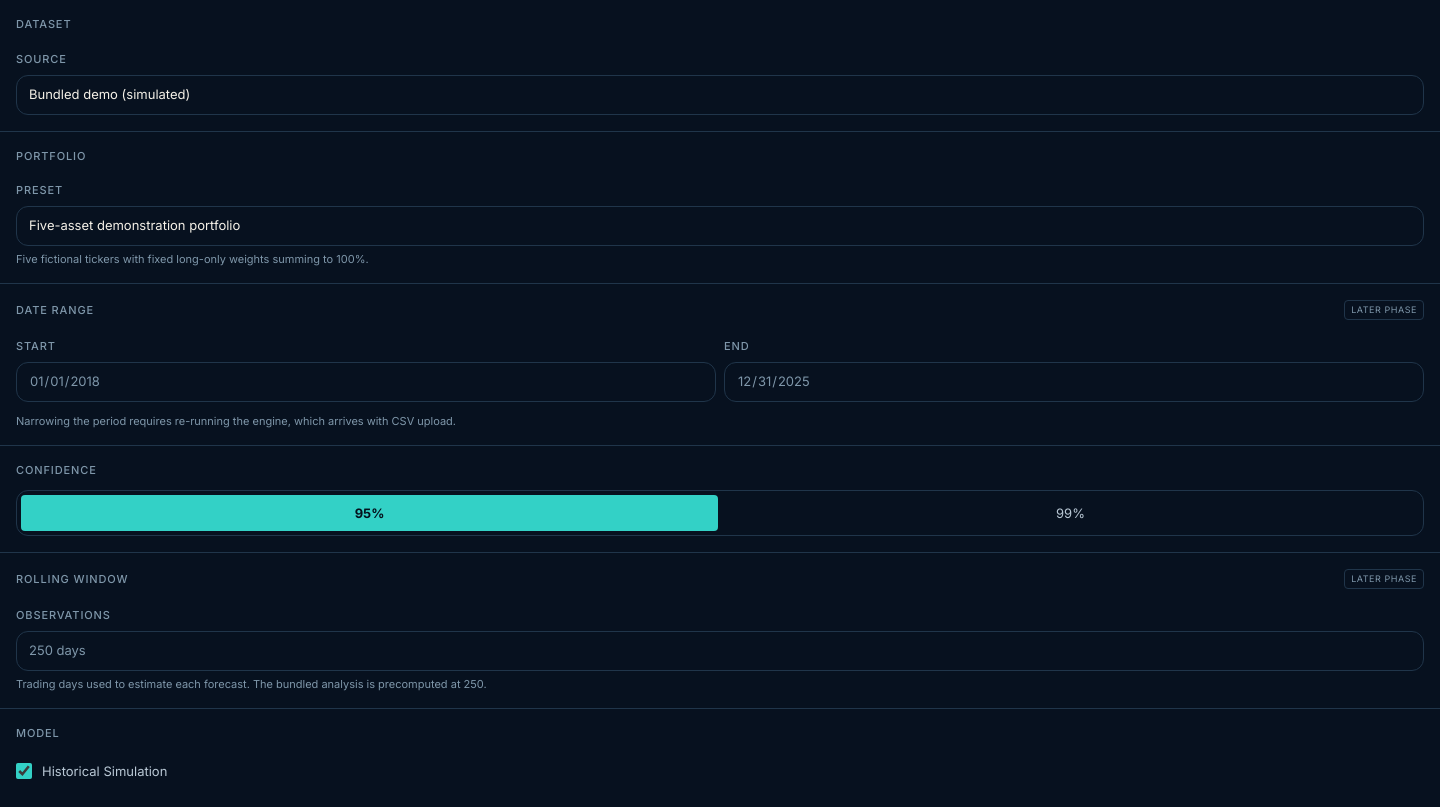
Scenario: Model and confidence controls drive the audit table › explains an empty selection rather than showing a bare table
Click the checkbox labelled "Historical Simulation".
click(24, 771)  # box [16, 763, 32, 779]
(page scrolled)
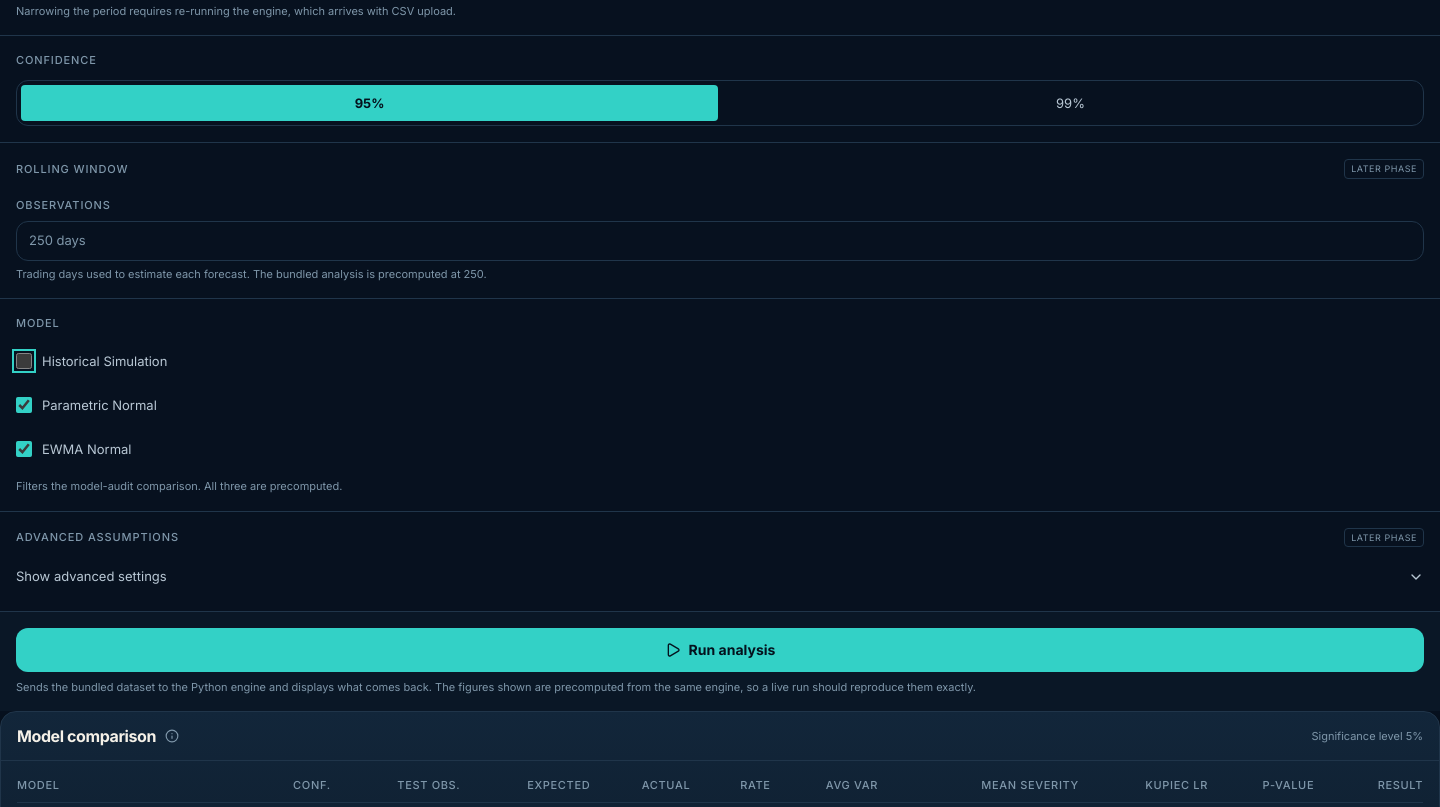
Click the checkbox labelled "Parametric Normal".
click(24, 405)  # box [16, 397, 32, 413]
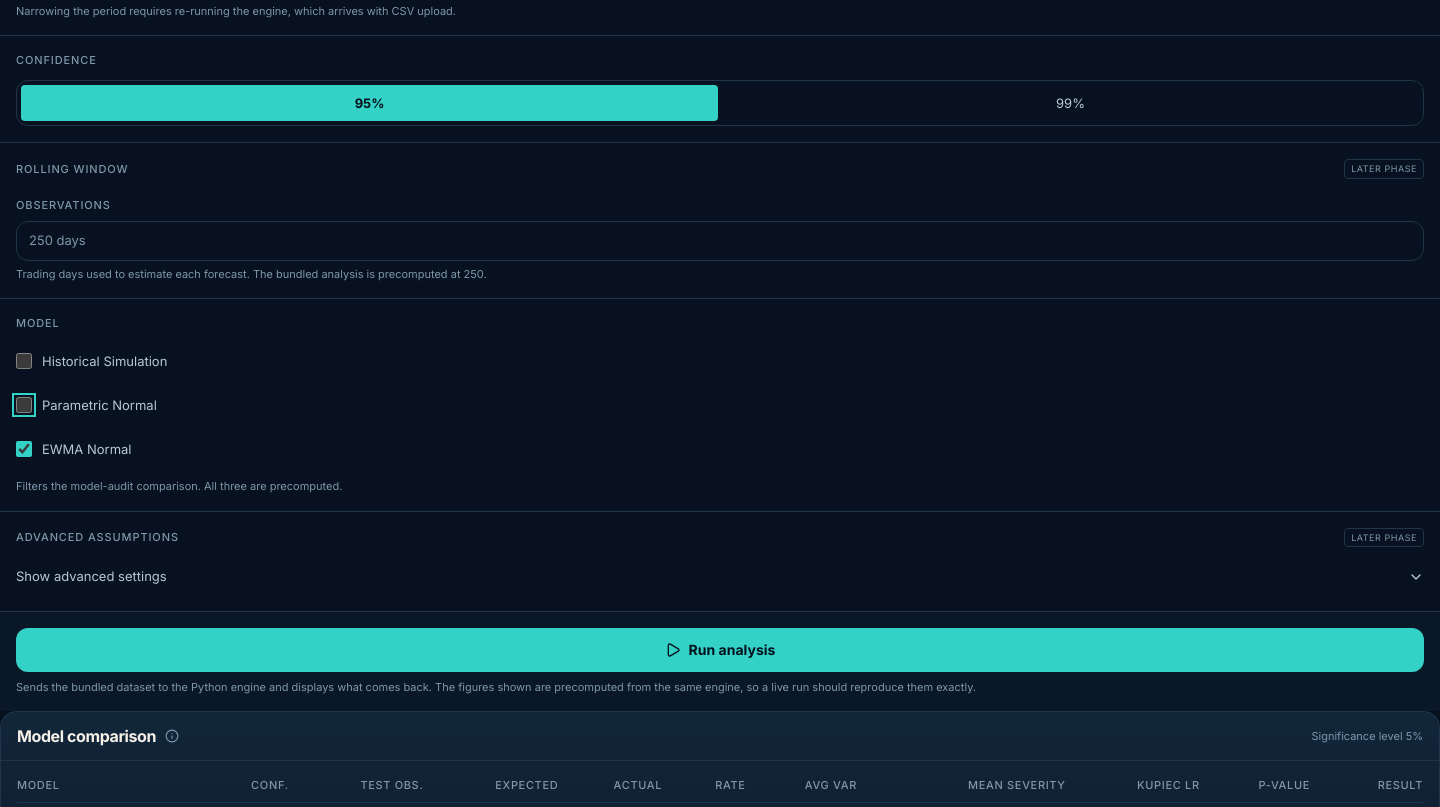
Click the checkbox labelled "EWMA Normal".
click(24, 449)  # box [16, 441, 32, 457]
(page scrolled)
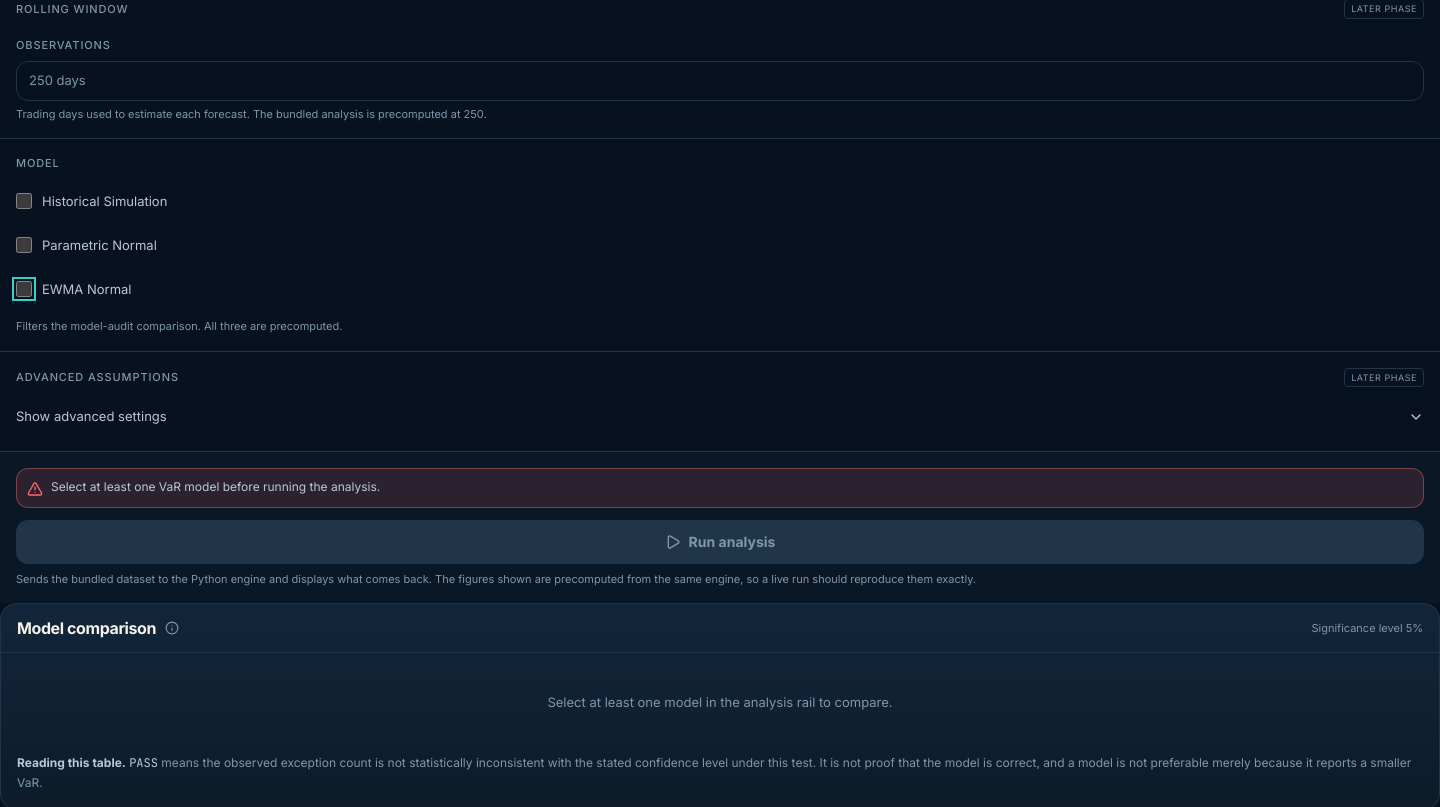
Now the text "Select at least one model in the analysis rail to compare." is shown, box [548, 694, 893, 710]
